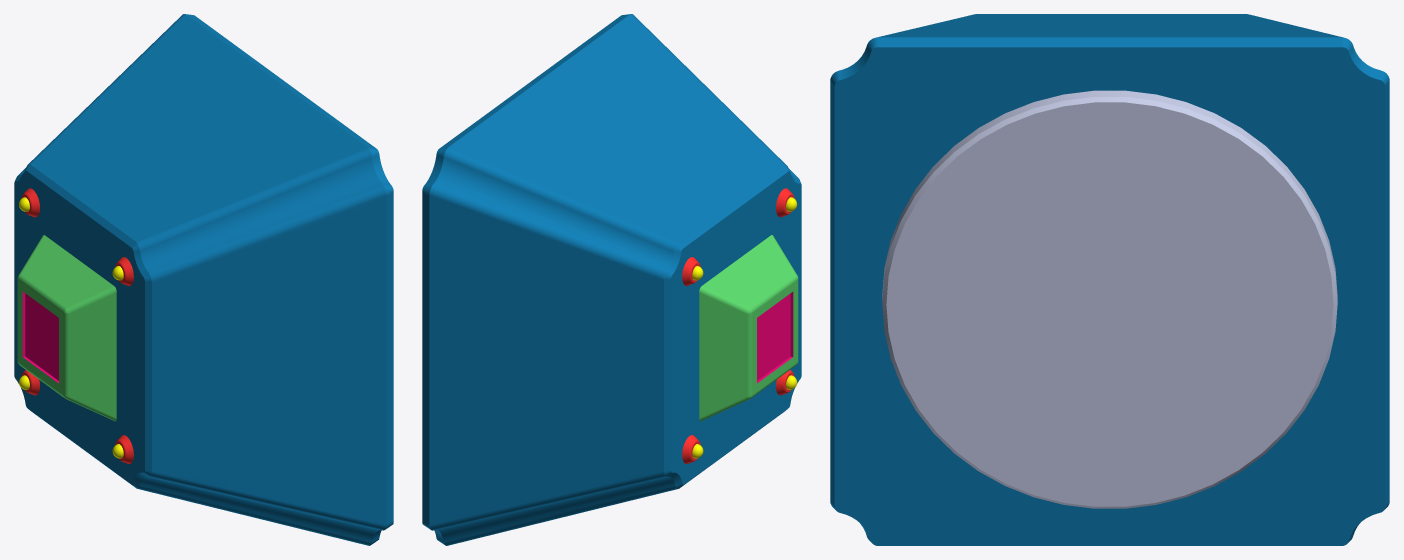
The model's file is monitor.fbx.
3 renders of one model, left to right at view 1: azimuth 30°, elevation 25°; view 2: azimuth 150°, elevation 25°; view 3: azimuth 270°, elevation 25°, orthographic. The views are drawn at different scales.
Visible parts, largest first — view 1: 3DGeom~63, 3DGeom~64, 3DGeom~65, 3DGeom~68, 3DGeom~66; view 2: 3DGeom~63, 3DGeom~64, 3DGeom~65, 3DGeom~68, 3DGeom~66; view 3: 3DGeom~67, 3DGeom~63.
Part boxes in pixels (<box>): 3DGeom~63: <box>14,14,393,545</box>; 3DGeom~64: <box>17,235,116,421</box>; 3DGeom~65: <box>22,291,58,383</box>; 3DGeom~68: <box>21,188,133,463</box>; 3DGeom~66: <box>19,197,123,458</box>; 3DGeom~63: <box>422,14,801,545</box>; 3DGeom~64: <box>699,235,798,421</box>; 3DGeom~65: <box>757,291,793,383</box>; 3DGeom~68: <box>682,188,794,463</box>; 3DGeom~66: <box>692,197,797,458</box>; 3DGeom~67: <box>882,90,1337,508</box>; 3DGeom~63: <box>830,14,1389,545</box>.
Bounding box in the file's own units: 1 × 1.47 × 1.47.
